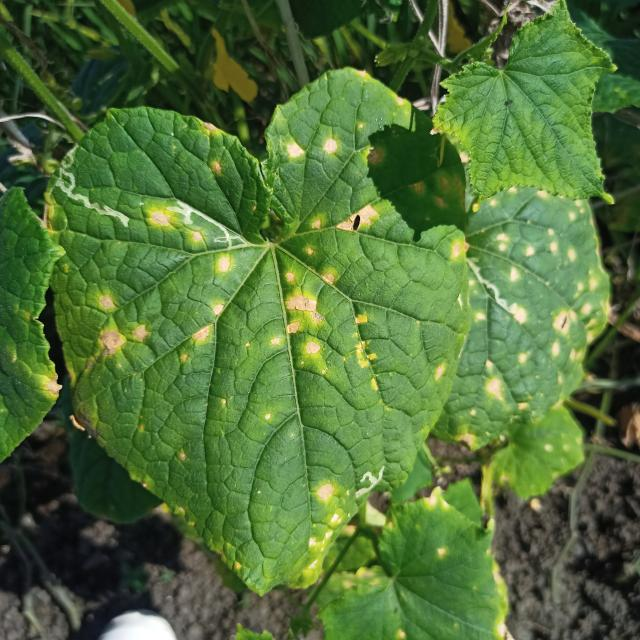disease_cucumber: (41, 108, 467, 414), (466, 192, 603, 429), (306, 480, 344, 556)
